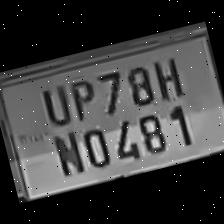0: (76, 119, 114, 172)
1: (160, 97, 200, 151)
4: (105, 114, 142, 164)
7: (88, 64, 130, 118)
8: (119, 58, 158, 110), (132, 106, 170, 158)
H: (146, 49, 190, 104)
N: (46, 125, 86, 180)
P: (61, 70, 102, 124)
U: (32, 78, 74, 130)
